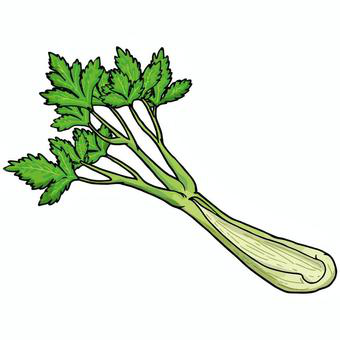Seledri: (7, 28, 340, 309)
